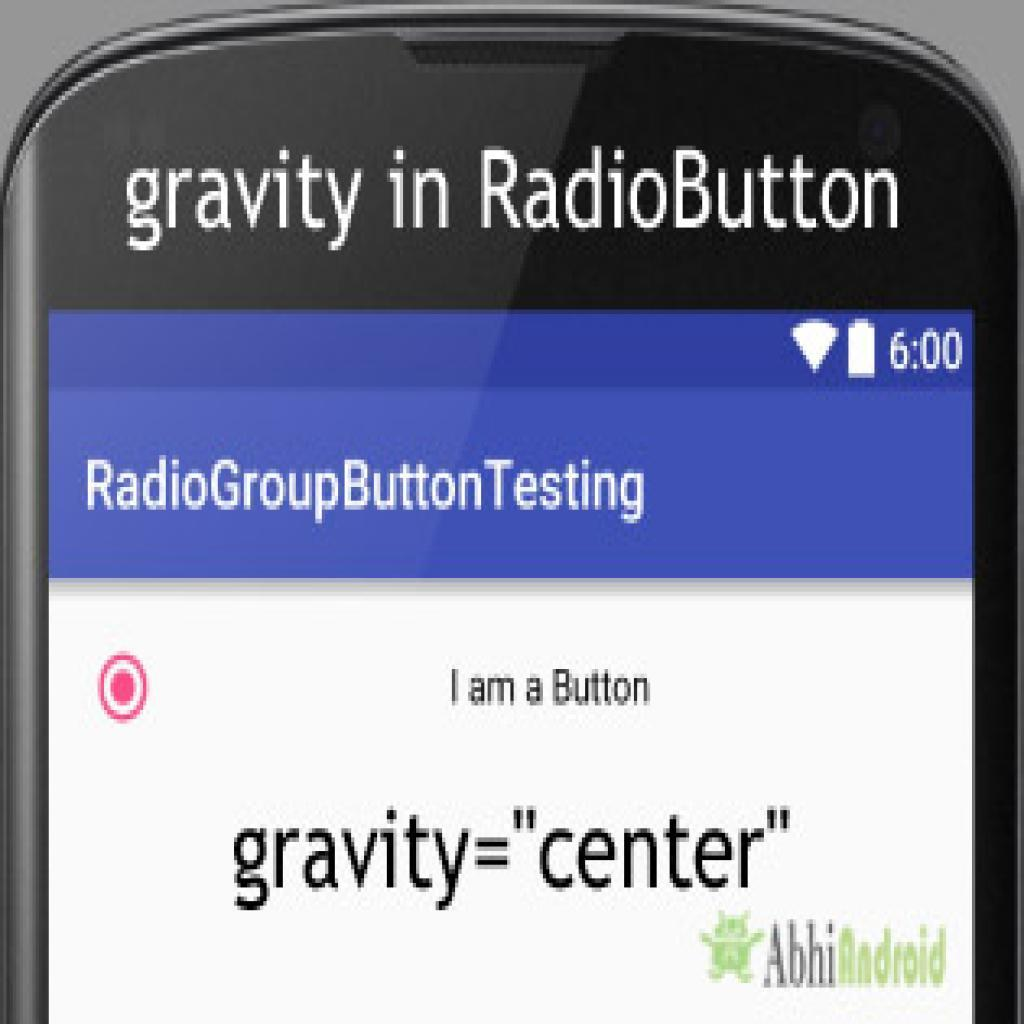radio: (89, 644, 161, 729)
